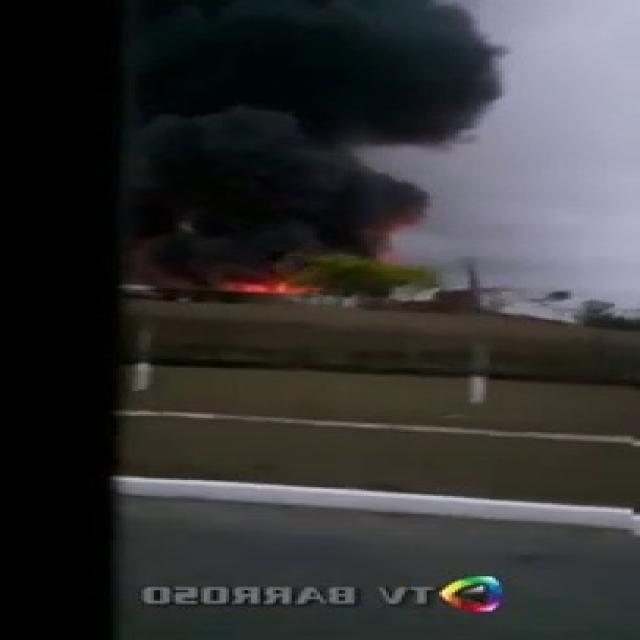Fire: (218, 266, 332, 302)
Smoke: (114, 0, 499, 269)
